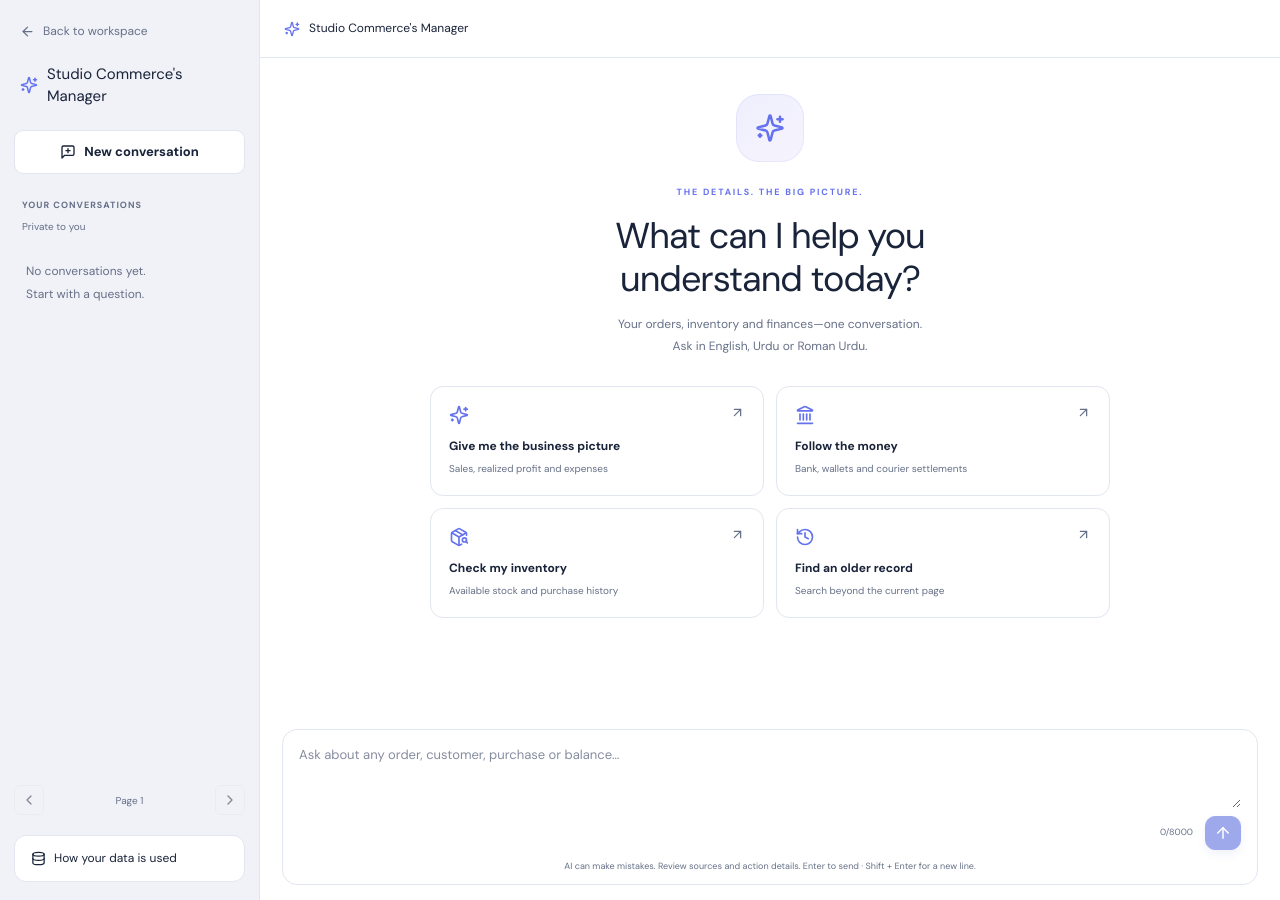
it: reuses the same request key after an interrupted response
Type "Show the business picture" into the text box named "Ask your Manager". click: [770, 775]
box: [299,742,1241,808]
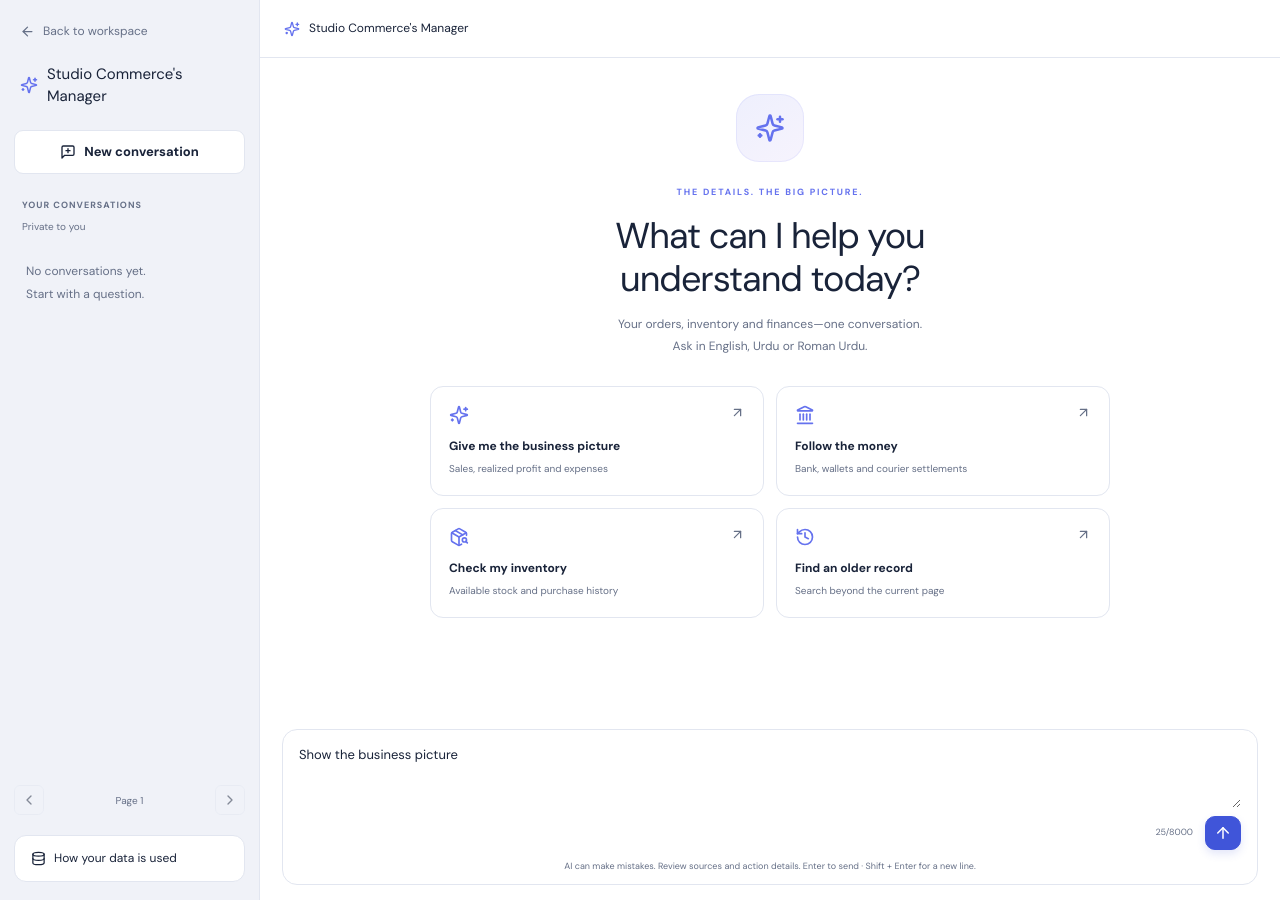
Click the button named "Send message". click: [1223, 833]
box: [1205,816,1241,850]
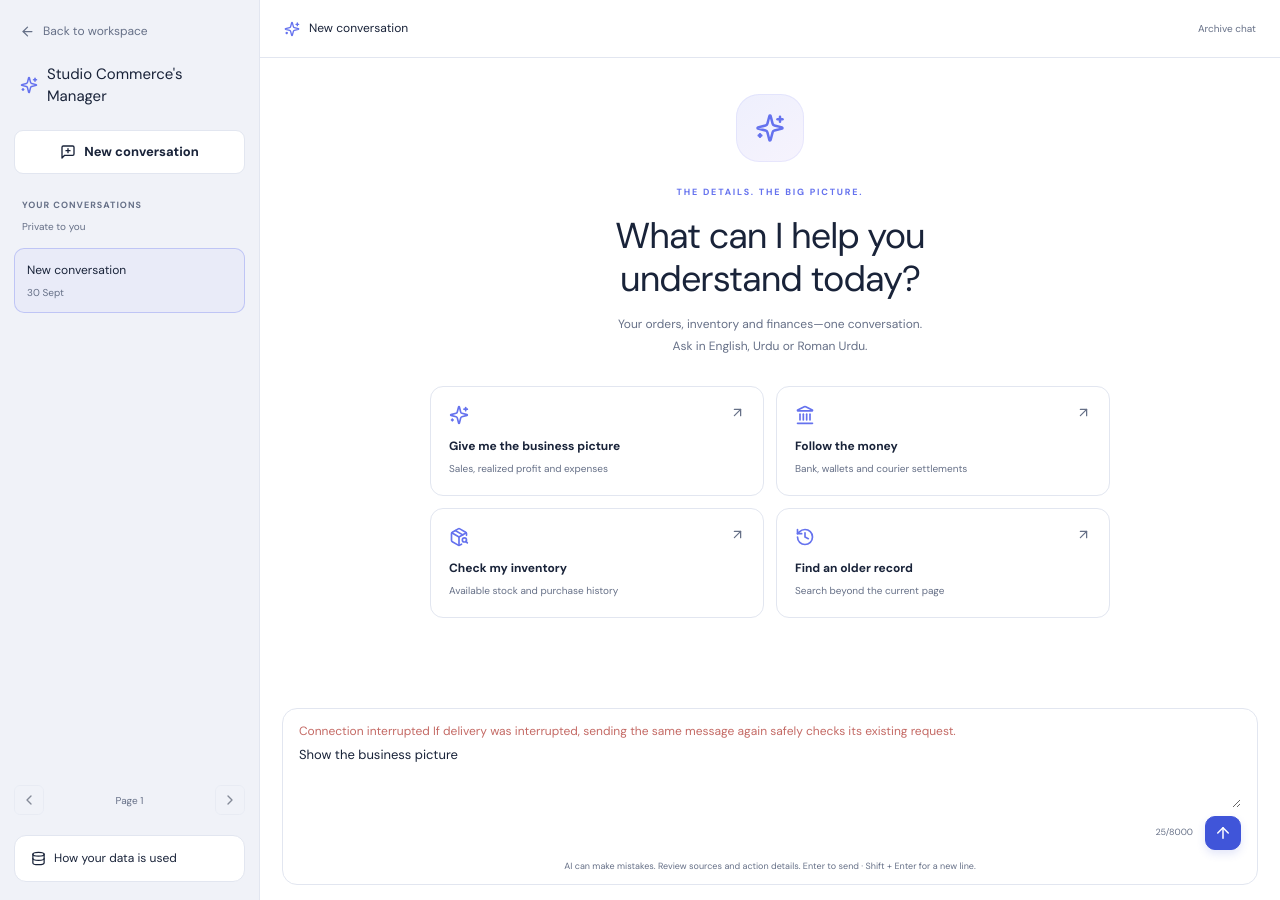
Expected: the button named "Send message" is enabled
Expected: the message is shown, [299,724,956,740]
Click the button named "Send message". click: [1223, 833]
box: [1205,816,1241,850]
(page scrolled)
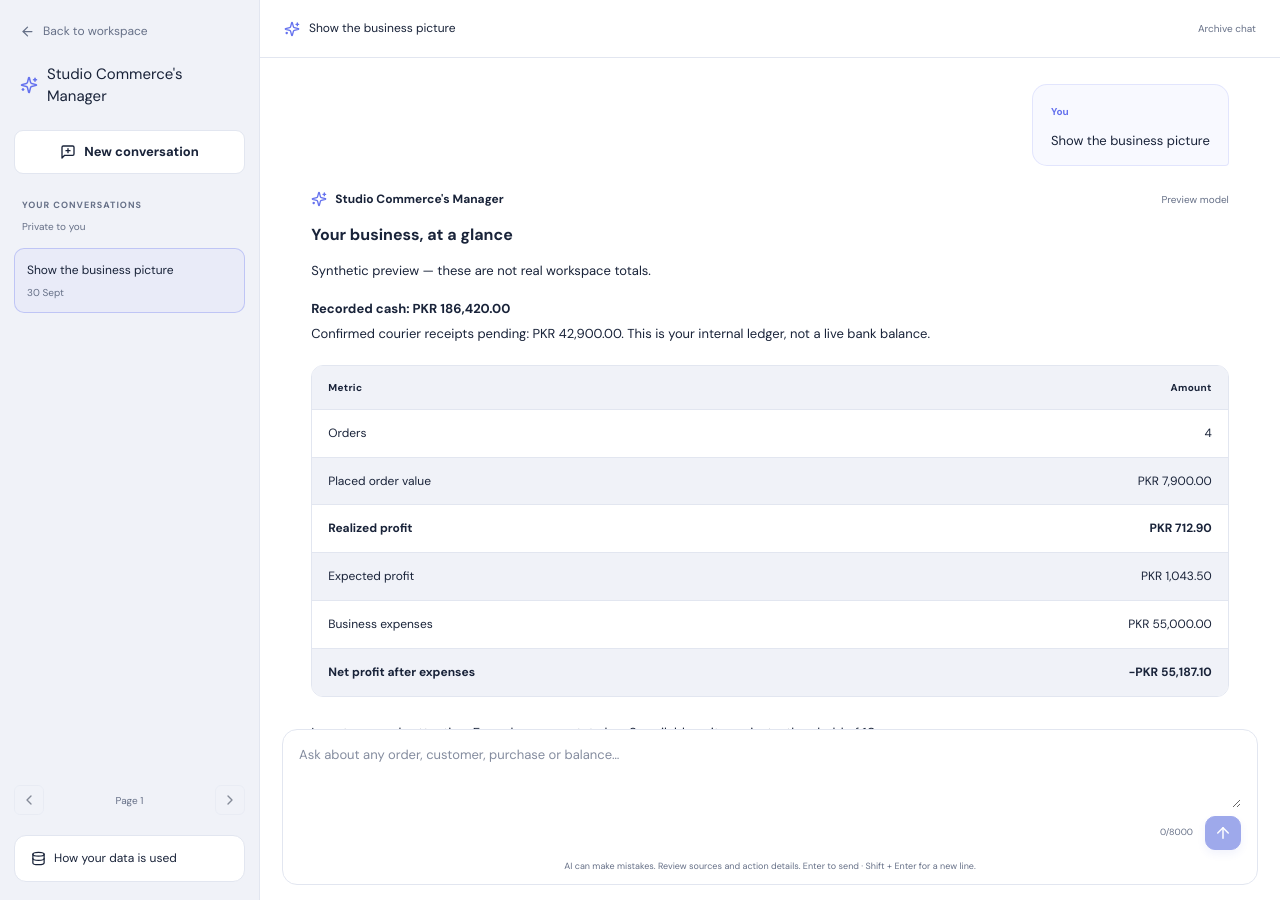
Expected: the text "Recorded cash: PKR 186,420.00" is shown, [311,300,510,318]
